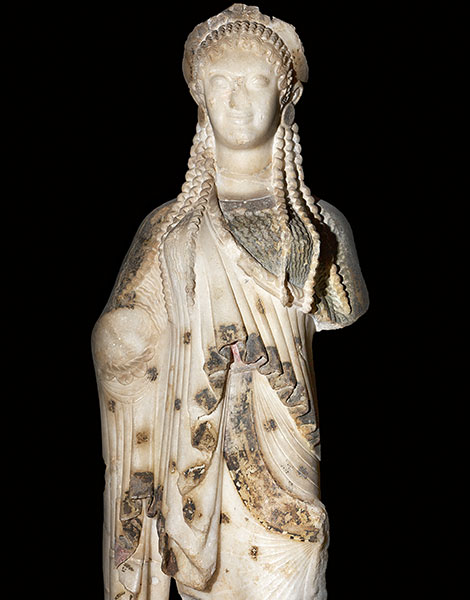person-like: (77, 1, 380, 599)
